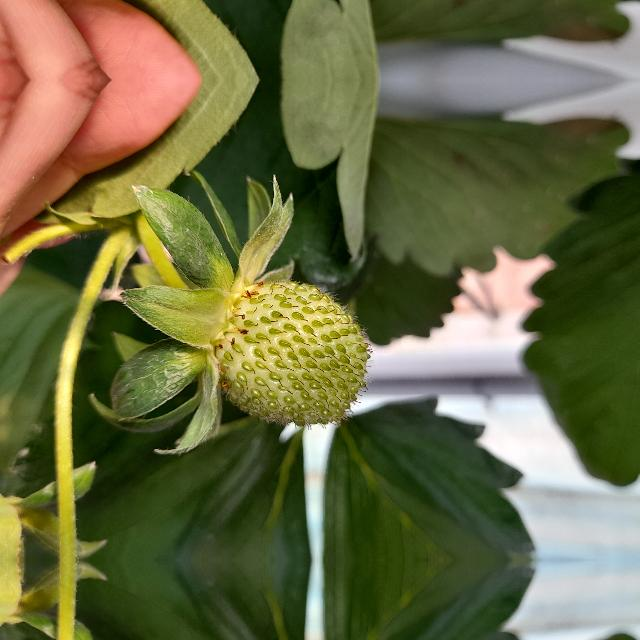Health_25: (211, 280, 371, 426)
